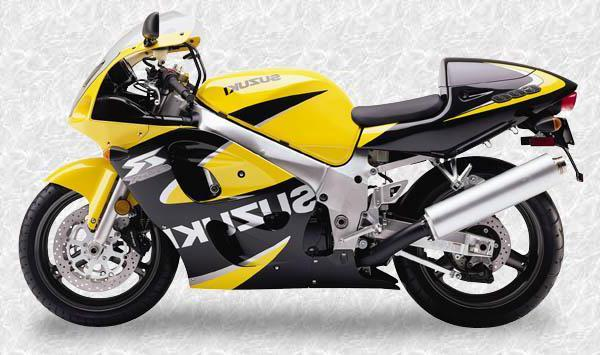motorcycle: (2, 3, 593, 341)
